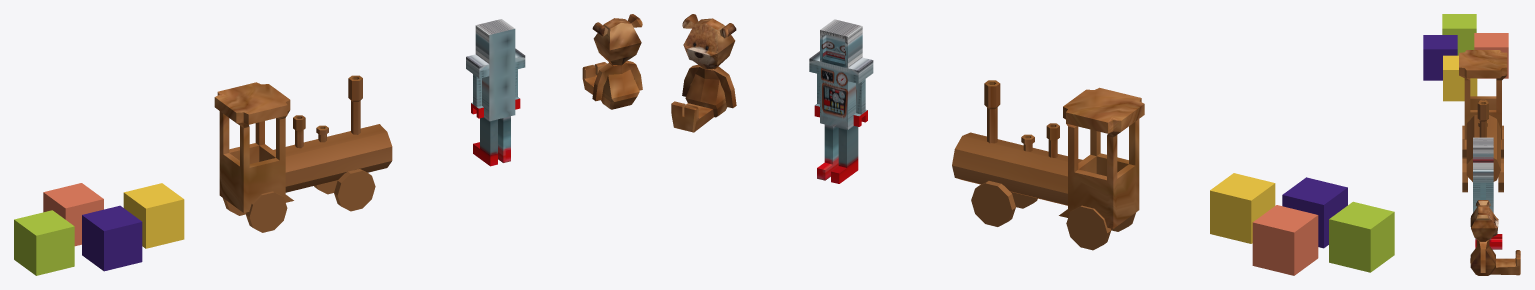
The model's file is brinquedos.fbx.
The picture shows the model from 3 angles, left to right: view 1: azimuth 30°, elevation 25°; view 2: azimuth 150°, elevation 25°; view 3: azimuth 270°, elevation 25°; orthographic projection. The views are drawn at different scales.
Parts seen in each view (by area): view 1: trenzin, robo, urso, 2, 3, 4, 1; view 2: trenzin, robo, urso, 1, 3, 4, 2; view 3: trenzin, urso, robo, 2, 4, 3, 1.
Part boxes in pixels (x1,y1,x2,y2): trenzin: [214, 75, 392, 232]; robo: [466, 19, 525, 166]; urso: [582, 14, 642, 109]; 2: [82, 205, 142, 271]; 3: [14, 210, 74, 275]; 4: [123, 183, 184, 248]; 1: [43, 183, 103, 246]; trenzin: [952, 80, 1144, 250]; robo: [809, 19, 873, 183]; urso: [671, 14, 736, 132]; 1: [1252, 205, 1318, 275]; 3: [1329, 201, 1394, 272]; 4: [1210, 173, 1275, 243]; 2: [1282, 177, 1347, 248]; trenzin: [1459, 50, 1507, 192]; urso: [1470, 200, 1520, 275]; robo: [1473, 137, 1502, 249]; 2: [1423, 35, 1457, 80]; 4: [1443, 55, 1477, 101]; 3: [1442, 14, 1476, 55]; 1: [1474, 33, 1508, 78].
Bounding box in the file's own units: 1313 × 270 × 226.
Materials: 1 (1 with a texture image).
